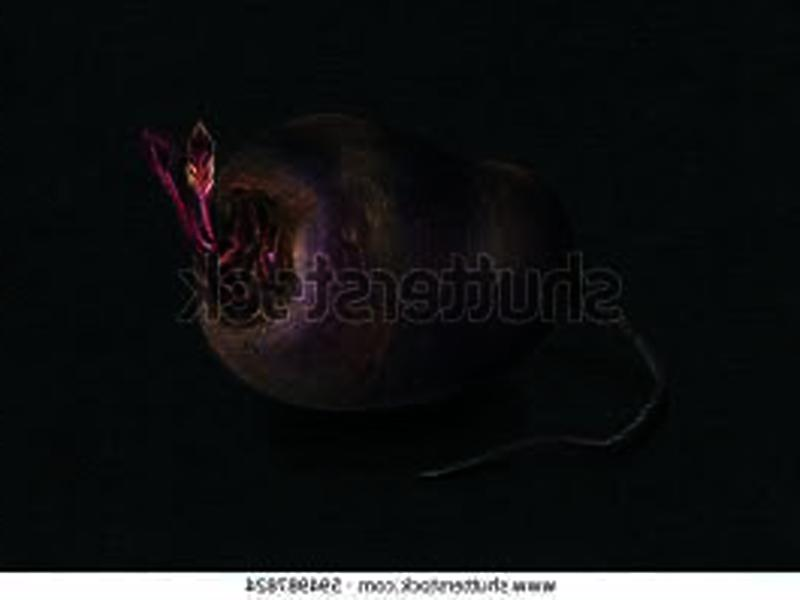Beet: (129, 111, 663, 477)
